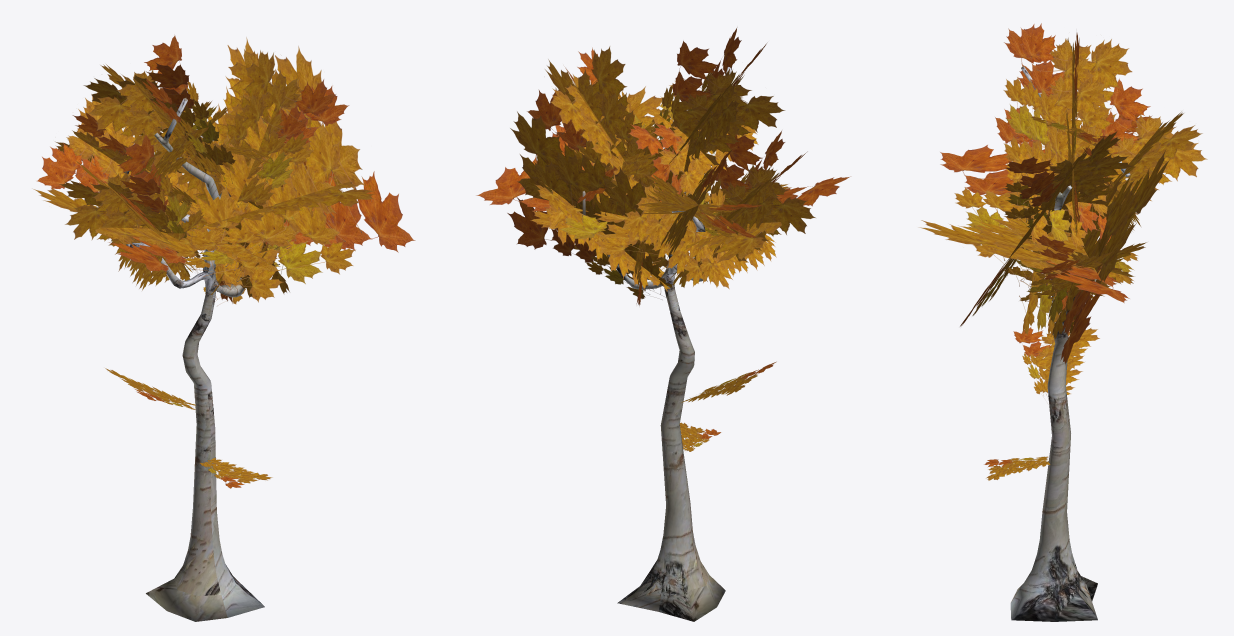
Rendered from Tree1.glb.
3 renders of one model, left to right at view 1: azimuth 30°, elevation 25°; view 2: azimuth 150°, elevation 25°; view 3: azimuth 270°, elevation 25°, orthographic. The views are drawn at different scales.
Visible parts, largest first — view 1: Cube.005; view 2: Cube.005; view 3: Cube.005.
Boxes of the visible parts, x1,y1,x2,y2 form: Cube.005: (33, 35, 415, 621); Cube.005: (476, 27, 850, 621); Cube.005: (919, 23, 1207, 621).
Bounding box in the file's own units: 5.65 × 9.52 × 4.89.
Materials: 2 (2 with a texture image).
